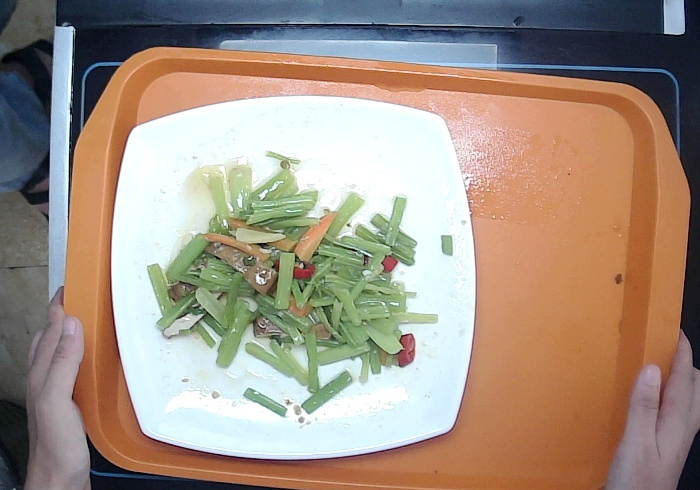ZNLD-Bai_Fang_Pan: (106, 92, 481, 464)
